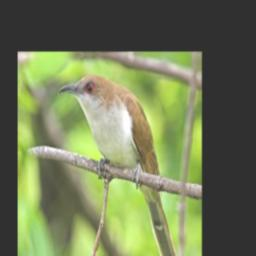Cuckoo: (58, 72, 178, 256)
